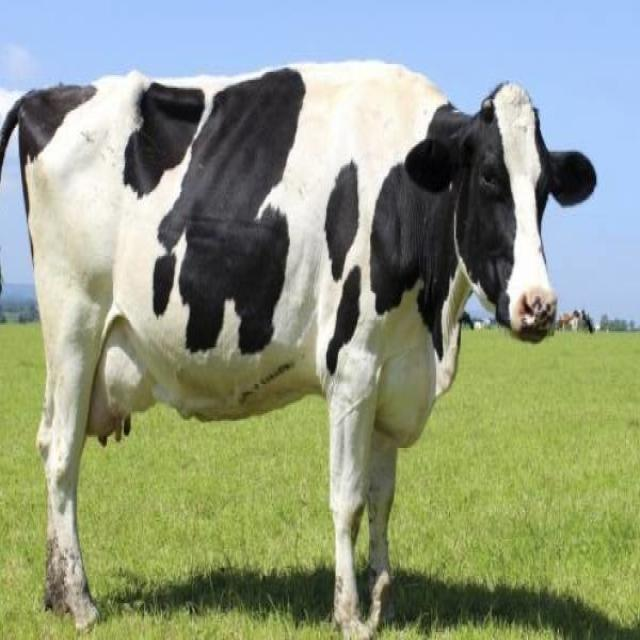Herbivorous: (0, 61, 599, 640)
